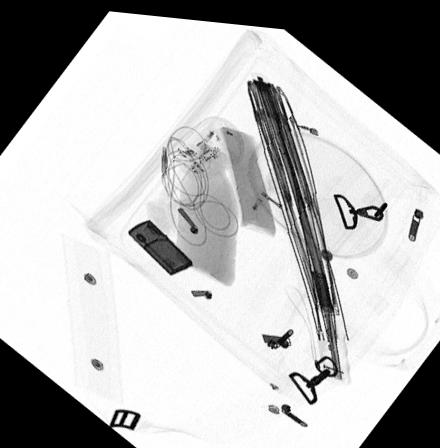Lighter: (126, 216, 191, 270)
